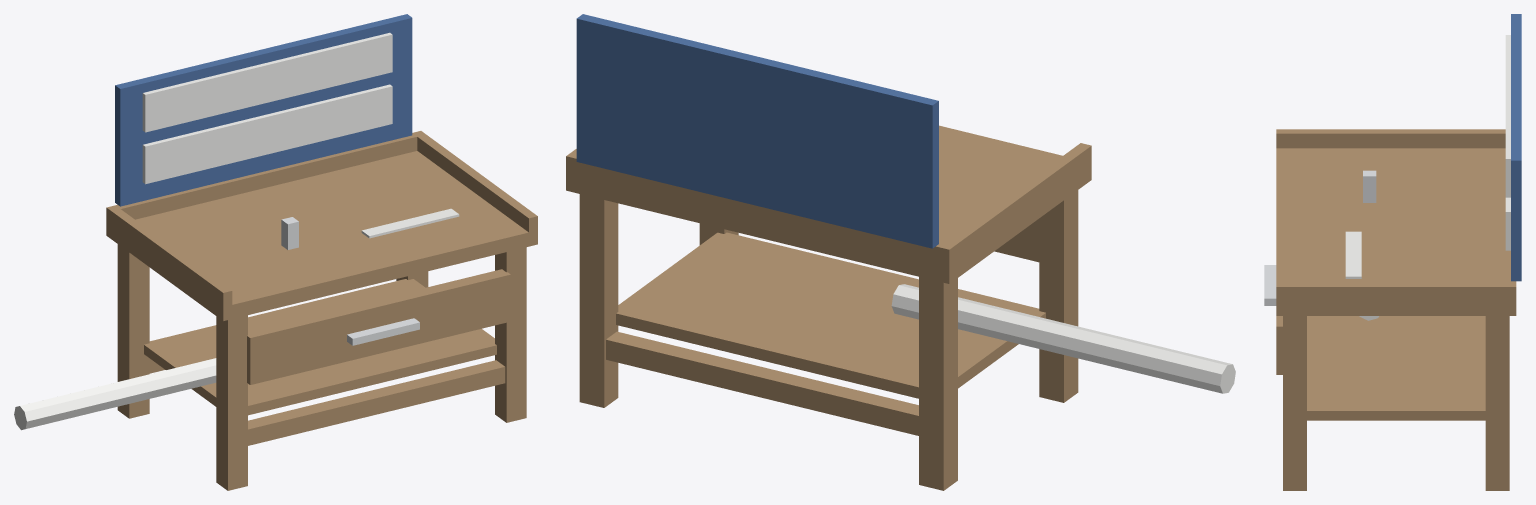
File: marina-and-yacht-club-marina-and-yacht-club-chart-tabl-38363d9a__38332.glb
3 views of the same model, side by side, from view 1: azimuth 30°, elevation 25°; view 2: azimuth 150°, elevation 25°; view 3: azimuth 270°, elevation 25° (orthographic). The views are drawn at different scales.
Parts seen in each view (by area): view 1: marina-and-yacht-club-chart-table, chart-drawer/teak, chart-drawer/steel; view 2: marina-and-yacht-club-chart-table, chart-drawer/teak; view 3: marina-and-yacht-club-chart-table, chart-drawer/steel, chart-drawer/teak.
Part boxes in pixels (x1,y1,x2,y2): marina-and-yacht-club-chart-table: [14, 14, 537, 490]; chart-drawer/teak: [247, 269, 510, 384]; chart-drawer/steel: [347, 318, 419, 345]; marina-and-yacht-club-chart-table: [566, 14, 1235, 490]; chart-drawer/teak: [994, 218, 1039, 262]; marina-and-yacht-club-chart-table: [1276, 14, 1521, 490]; chart-drawer/steel: [1264, 265, 1276, 305]; chart-drawer/teak: [1276, 316, 1282, 374].
Bounding box in the file's own units: 2.1 × 1.36 × 0.965.
